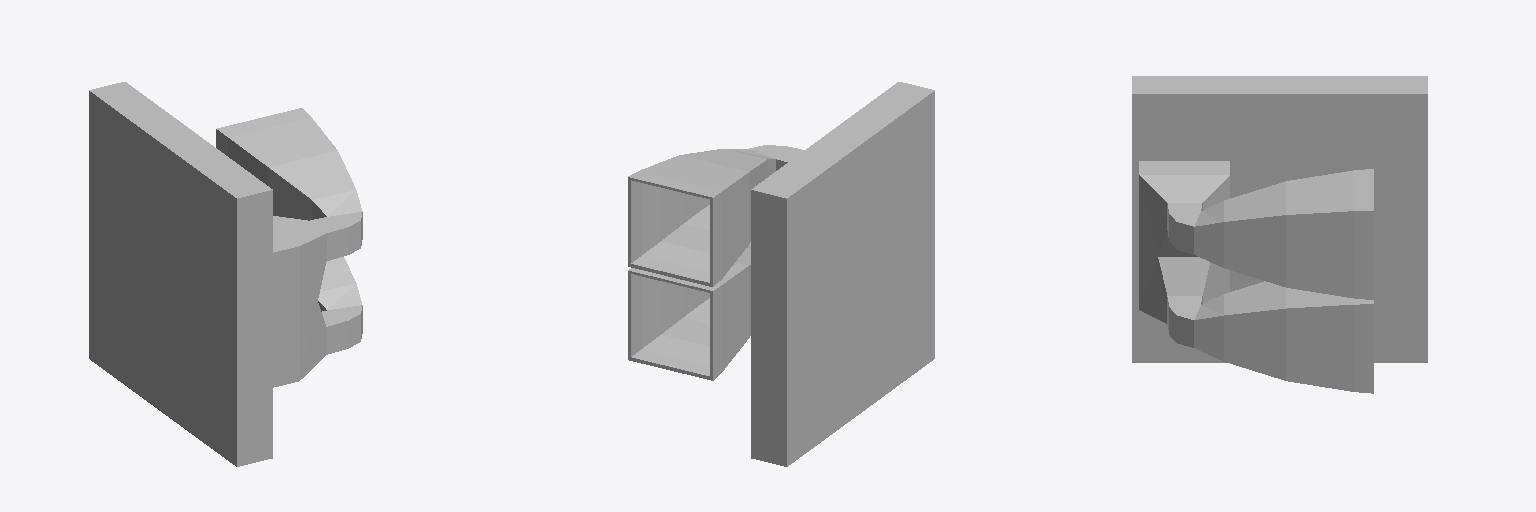
The model's file is thruster.obj.
3 renders of one model, left to right at view 1: azimuth 30°, elevation 25°; view 2: azimuth 150°, elevation 25°; view 3: azimuth 270°, elevation 25°, orthographic.
Visible parts, largest first — view 1: Main; view 2: Main; view 3: Main.
Part boxes in pixels (x1,y1,x2,y2): Main: (89, 82, 362, 466); Main: (628, 82, 934, 466); Main: (1132, 76, 1427, 393).
Size of the model in its own units: 1.28 by 1.76 by 1.76.